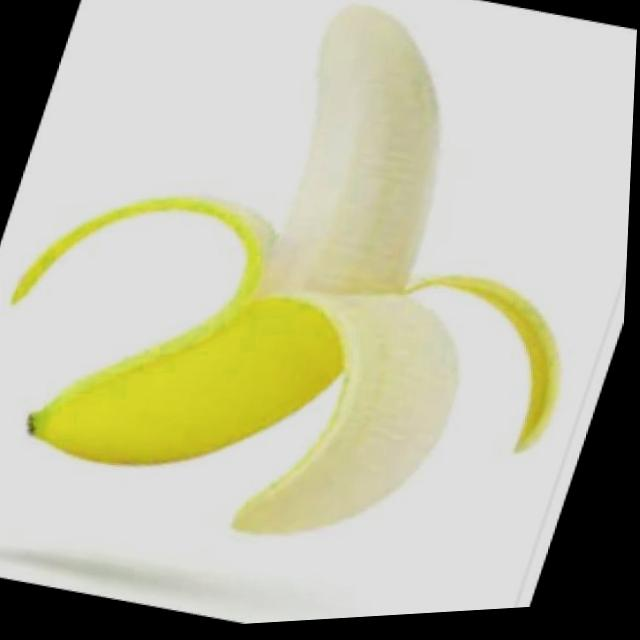Banana: (6, 0, 579, 552)
